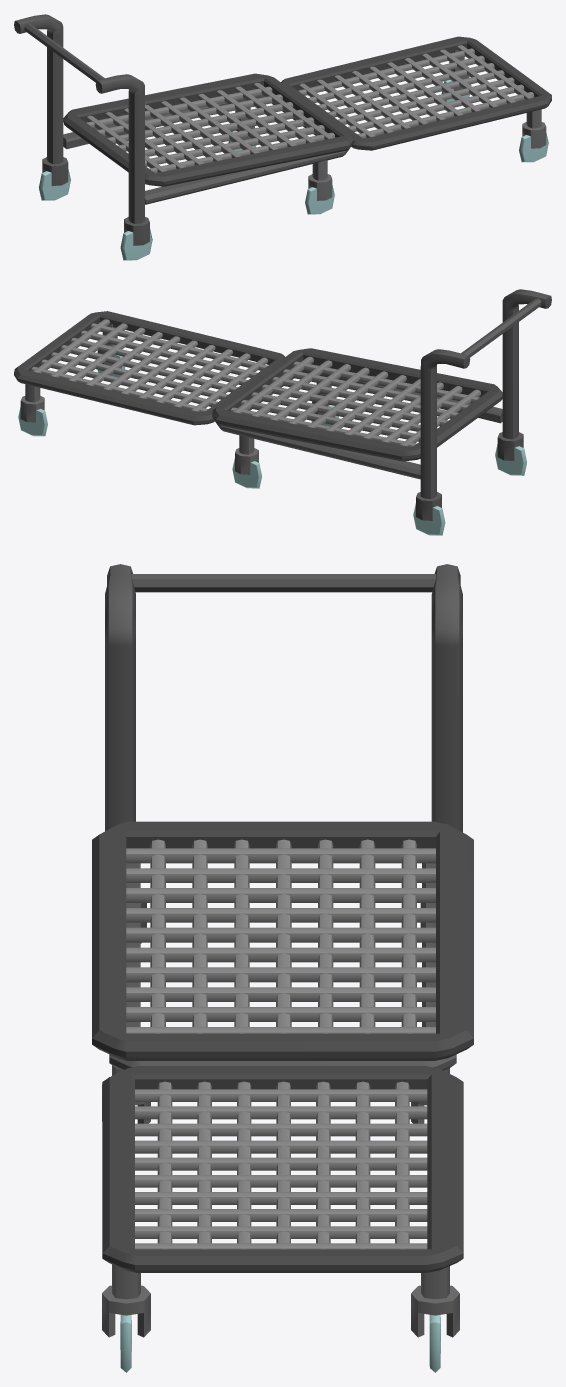
Rendered from araba_sepet.fbx.
The picture shows the model from 3 angles, top to bottom: view 1: azimuth 30°, elevation 25°; view 2: azimuth 150°, elevation 25°; view 3: azimuth 270°, elevation 25°; orthographic projection. The views are drawn at different scales.
Visible parts, largest first — view 1: RUF4ZHE:pCube1 (×2), RUF4ZHE:pCube5, RUF4ZHE:pCube3, RUF4ZHE:pCube2, RUF4ZHE:demir_çubuk15 (×2), RUF4ZHE:demir_çubuk14 (×2), RUF4ZHE:demir_çubuk10 (×2), RUF4ZHE:demir_çubuk12 (×2), RUF4ZHE:demir_çubuk11 (×2), RUF4ZHE:demir_çubuk13 (×2), RUF4ZHE:demir_çubuk16 (×2), RUF4ZHE:demir_çubuk5 (×2) (+16 smaller); view 2: RUF4ZHE:pCube1 (×2), RUF4ZHE:pCube3, RUF4ZHE:pCube5, RUF4ZHE:pCube2, RUF4ZHE:demir_çubuk11 (×2), RUF4ZHE:demir_çubuk12 (×2), RUF4ZHE:demir_çubuk16 (×2), RUF4ZHE:demir_çubuk14 (×2), RUF4ZHE:demir_çubuk13 (×2), RUF4ZHE:demir_çubuk15 (×2), RUF4ZHE:demir_çubuk10 (×2), RUF4ZHE:demir_çubuk4 (×2) (+16 smaller); view 3: RUF4ZHE:pCube1 (×2), RUF4ZHE:pCube3, RUF4ZHE:pCube5, RUF4ZHE:demir_çubuk5 (×2), RUF4ZHE:demir_çubuk9 (×2), RUF4ZHE:demir_çubuk8 (×2), RUF4ZHE:demir_çubuk3 (×2), RUF4ZHE:demir_çubuk4 (×2), RUF4ZHE:demir_çubuk7 (×2), RUF4ZHE:demir_çubuk6 (×2), RUF4ZHE:demir_çubuk2 (×2), RUF4ZHE:demir_çubuk1 (×2) (+12 smaller).
Boxes of the visible parts, bbox=[...] form: RUF4ZHE:pCube1 (×2): bbox=[63, 36, 551, 186]; RUF4ZHE:pCube5: bbox=[95, 74, 149, 245]; RUF4ZHE:pCube3: bbox=[14, 14, 68, 185]; RUF4ZHE:pCube2: bbox=[63, 95, 349, 204]; RUF4ZHE:demir_çubuk15 (×2): bbox=[145, 84, 524, 166]; RUF4ZHE:demir_çubuk14 (×2): bbox=[128, 77, 514, 156]; RUF4ZHE:demir_çubuk10 (×2): bbox=[86, 48, 474, 128]; RUF4ZHE:demir_çubuk12 (×2): bbox=[107, 63, 494, 143]; RUF4ZHE:demir_çubuk11 (×2): bbox=[97, 55, 484, 136]; RUF4ZHE:demir_çubuk13 (×2): bbox=[118, 70, 504, 151]; RUF4ZHE:demir_çubuk16 (×2): bbox=[149, 92, 534, 173]; RUF4ZHE:demir_çubuk5 (×2): bbox=[160, 66, 445, 157]; RUF4ZHE:pCube1 (×2): bbox=[14, 311, 502, 461]; RUF4ZHE:pCube3: bbox=[416, 349, 470, 520]; RUF4ZHE:pCube5: bbox=[497, 289, 551, 460]; RUF4ZHE:pCube2: bbox=[216, 368, 502, 479]; RUF4ZHE:demir_çubuk11 (×2): bbox=[41, 359, 420, 441]; RUF4ZHE:demir_çubuk12 (×2): bbox=[51, 352, 437, 431]; RUF4ZHE:demir_çubuk16 (×2): bbox=[90, 323, 479, 403]; RUF4ZHE:demir_çubuk14 (×2): bbox=[71, 337, 458, 418]; RUF4ZHE:demir_çubuk13 (×2): bbox=[61, 345, 447, 426]; RUF4ZHE:demir_çubuk15 (×2): bbox=[81, 330, 468, 410]; RUF4ZHE:demir_çubuk10 (×2): bbox=[31, 366, 416, 447]; RUF4ZHE:demir_çubuk4 (×2): bbox=[104, 336, 388, 428]; RUF4ZHE:pCube1 (×2): bbox=[92, 821, 473, 1272]; RUF4ZHE:pCube3: bbox=[420, 564, 462, 927]; RUF4ZHE:pCube5: bbox=[105, 564, 146, 943]; RUF4ZHE:demir_çubuk5 (×2): bbox=[126, 927, 435, 1170]; RUF4ZHE:demir_çubuk9 (×2): bbox=[126, 848, 435, 1101]; RUF4ZHE:demir_çubuk8 (×2): bbox=[126, 868, 435, 1119]; RUF4ZHE:demir_çubuk3 (×2): bbox=[126, 967, 435, 1204]; RUF4ZHE:demir_çubuk4 (×2): bbox=[126, 947, 435, 1187]; RUF4ZHE:demir_çubuk7 (×2): bbox=[126, 888, 435, 1136]; RUF4ZHE:demir_çubuk6 (×2): bbox=[126, 908, 435, 1153]; RUF4ZHE:demir_çubuk2 (×2): bbox=[126, 987, 435, 1221]; RUF4ZHE:demir_çubuk1 (×2): bbox=[126, 1007, 435, 1238].
Size of the model in its own units: 7.55 by 2.97 by 2.73.
